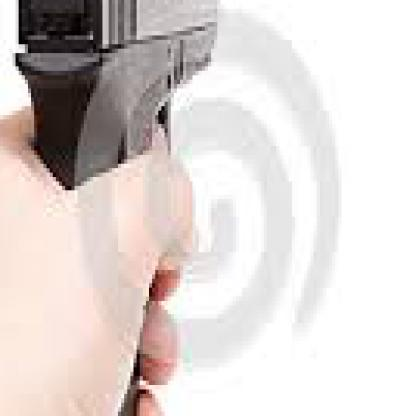gun: (6, 0, 239, 412)
